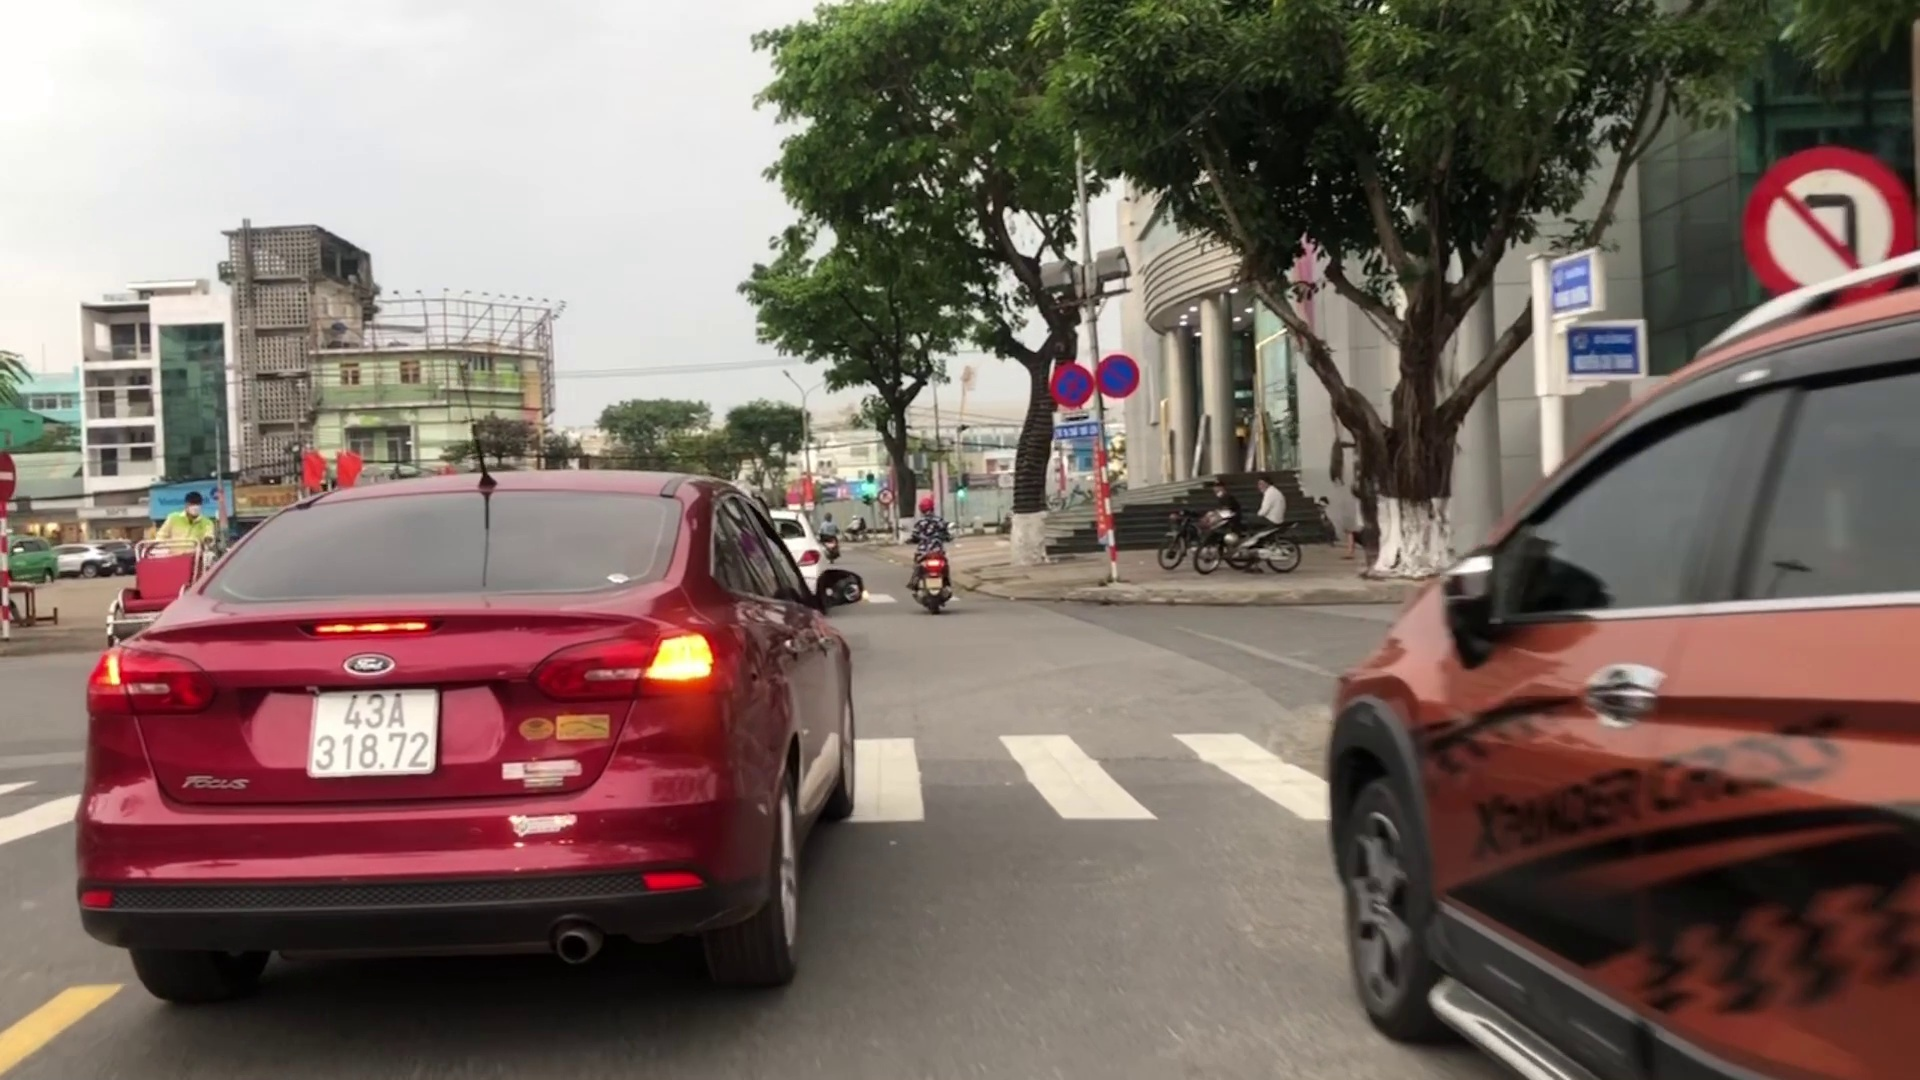Bien khac: (1747, 148, 1909, 301), (1048, 355, 1095, 410)
Cam do xe: (1101, 353, 1145, 401)
